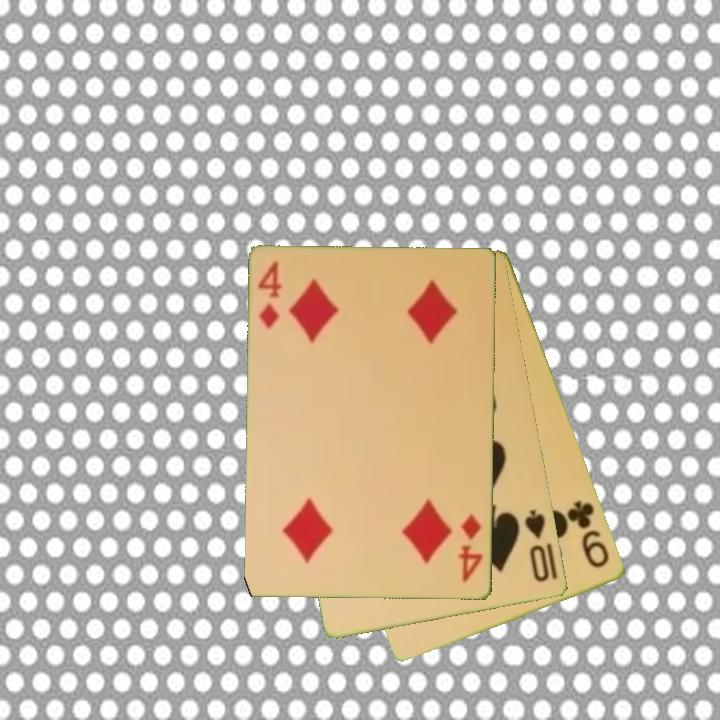10s: (521, 506, 553, 585)
4d: (456, 510, 486, 585), (255, 258, 285, 333)
9c: (564, 497, 613, 571)
